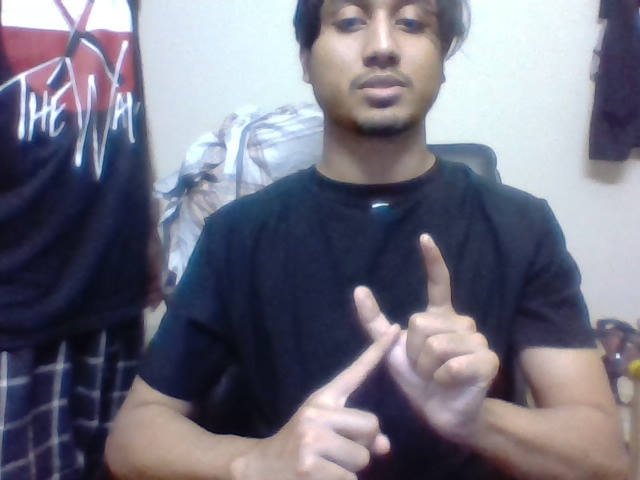Y: (305, 229, 454, 393)
